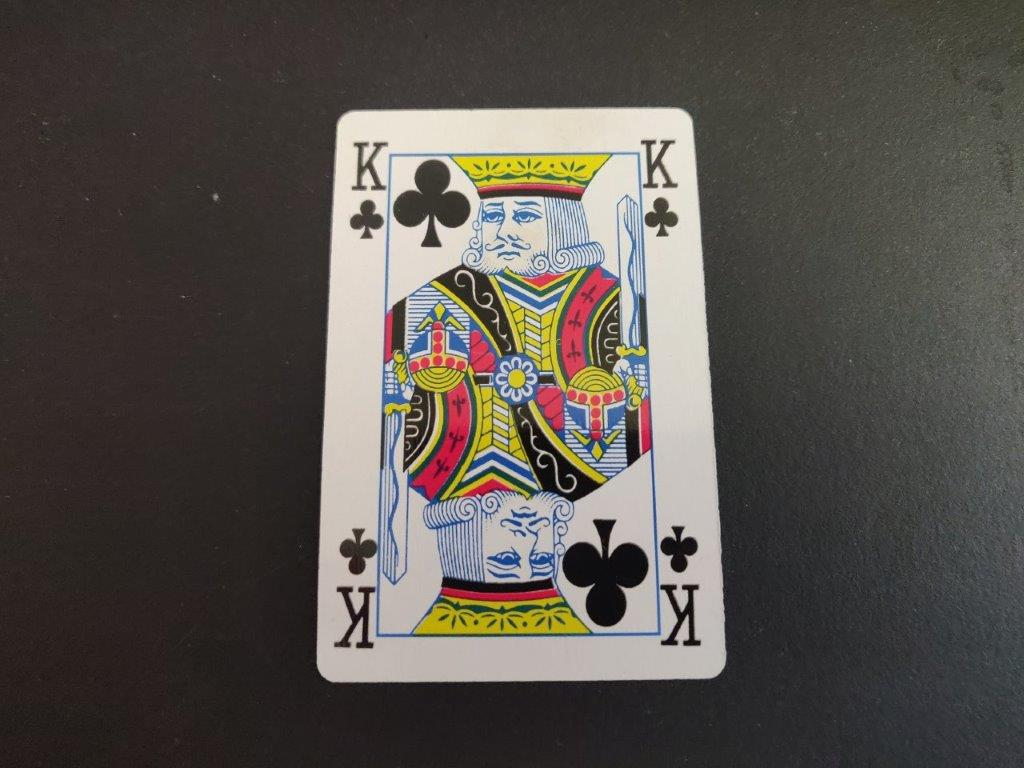KC: (635, 137, 684, 246), (348, 136, 388, 253)
